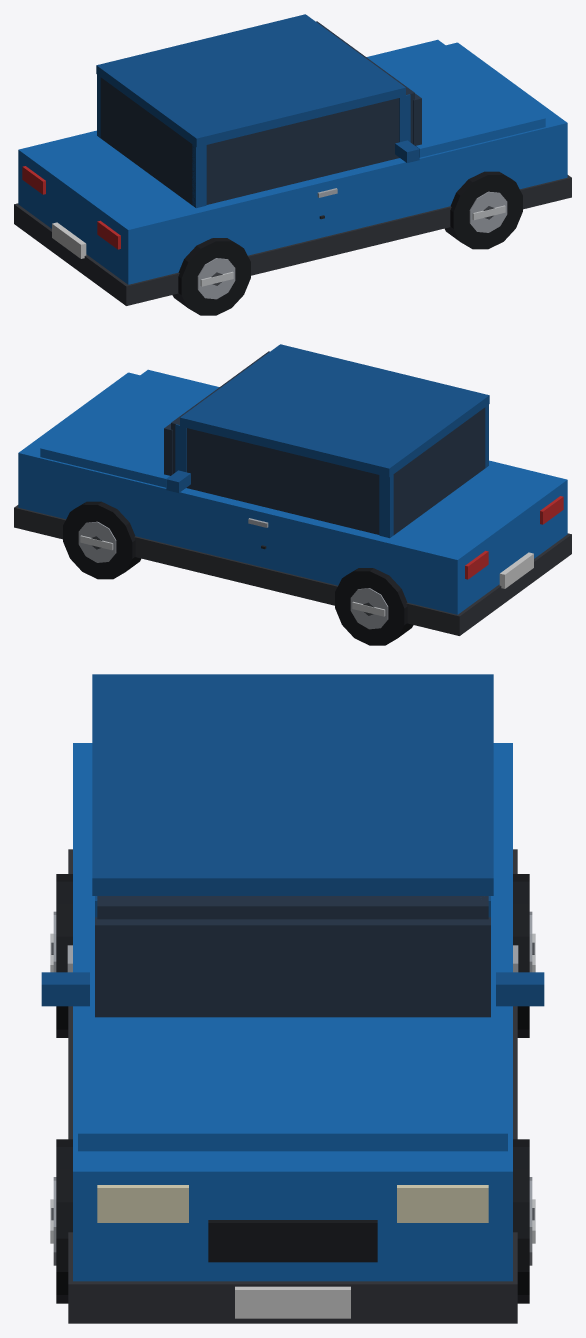
The model's file is car_blue.glb.
3 views of the same model, one above another, from view 1: azimuth 30°, elevation 25°; view 2: azimuth 150°, elevation 25°; view 3: azimuth 270°, elevation 25° (orthographic). The views are drawn at different scales.
Visible parts, largest first — view 1: gh_car_blue__body, gh_car_blue__wheel0, gh_car_blue__wheel2; view 2: gh_car_blue__body, gh_car_blue__wheel1, gh_car_blue__wheel3; view 3: gh_car_blue__body, gh_car_blue__wheel0, gh_car_blue__wheel1, gh_car_blue__wheel2, gh_car_blue__wheel3.
Part boxes in pixels (bbox=[...]): gh_car_blue__body: bbox=[14, 14, 571, 305]; gh_car_blue__wheel0: bbox=[445, 171, 522, 249]; gh_car_blue__wheel2: bbox=[172, 238, 250, 315]; gh_car_blue__body: bbox=[14, 344, 571, 635]; gh_car_blue__wheel1: bbox=[63, 501, 140, 579]; gh_car_blue__wheel3: bbox=[335, 568, 413, 645]; gh_car_blue__body: bbox=[41, 674, 544, 1323]; gh_car_blue__wheel0: bbox=[50, 1139, 72, 1303]; gh_car_blue__wheel1: bbox=[513, 1139, 535, 1303]; gh_car_blue__wheel2: bbox=[50, 874, 72, 1037]; gh_car_blue__wheel3: bbox=[513, 874, 535, 1037].
Size of the model in its own units: 4.33 by 1.58 by 2.08.
